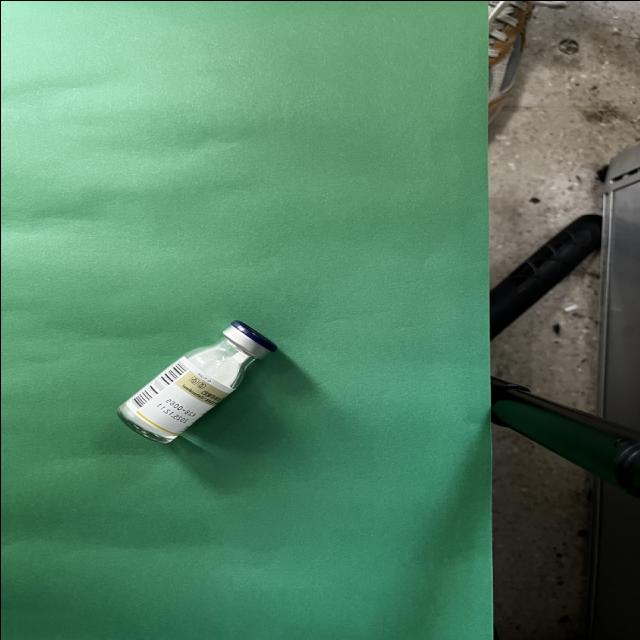Vials: (117, 320, 276, 442)
